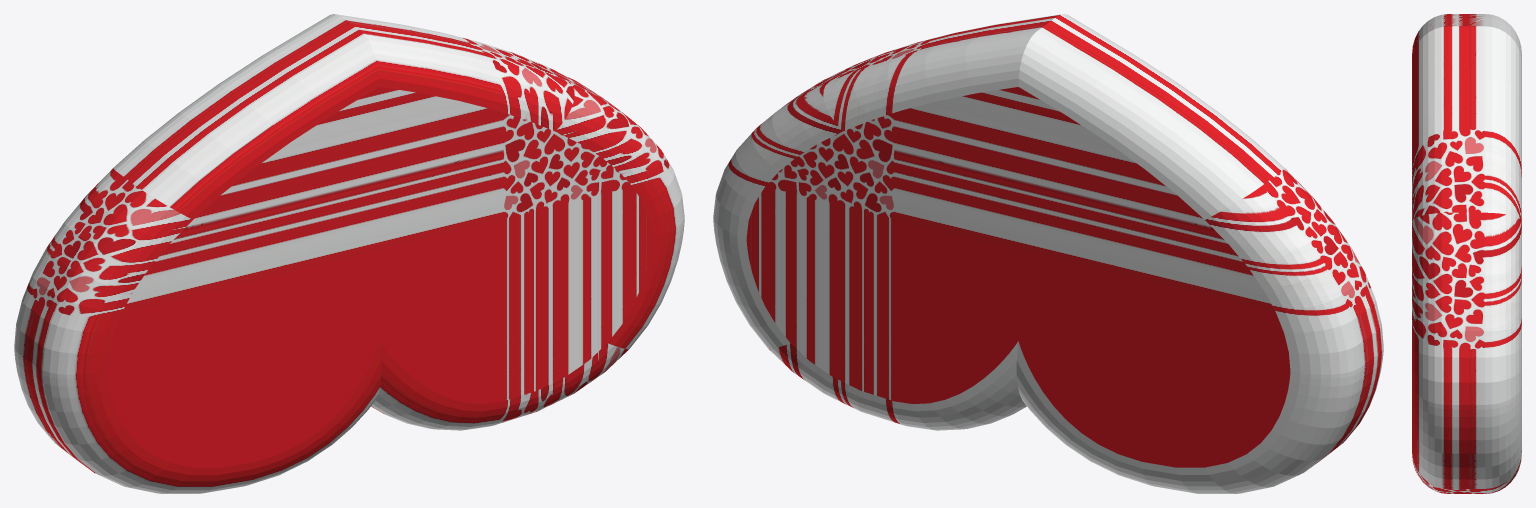
The picture shows the model from 3 angles, left to right: view 1: azimuth 30°, elevation 25°; view 2: azimuth 150°, elevation 25°; view 3: azimuth 270°, elevation 25°; orthographic projection. The views are drawn at different scales.
Parts seen in each view (by area): view 1: Heart75; view 2: Heart75; view 3: Heart75.
Boxes of the visible parts, x1=… form: Heart75: x1=14, y1=14, x2=684, y2=493; Heart75: x1=713, y1=14, x2=1383, y2=493; Heart75: x1=1412, y1=14, x2=1521, y2=493.
Bounding box in the file's own units: 0.3071 × 0.1927 × 0.0496.
1 material, 1 textured.
